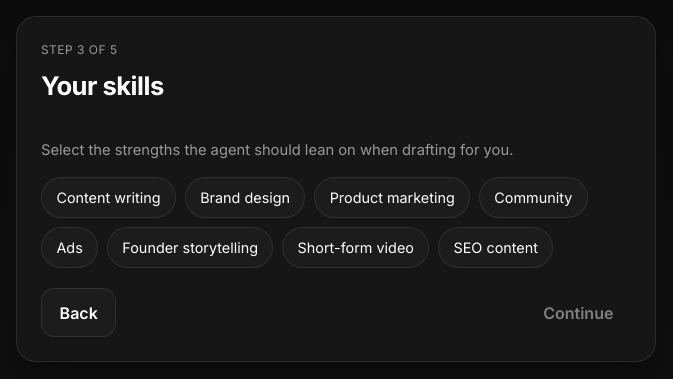
Test: OnboardingWizard › persists Back navigation to the server
Expected: the heading "Your skills" is shown, top-left (41, 70), bottom-right (164, 101)
Click the button "Back" at (79, 313), box top-left (41, 288), bottom-right (116, 337)
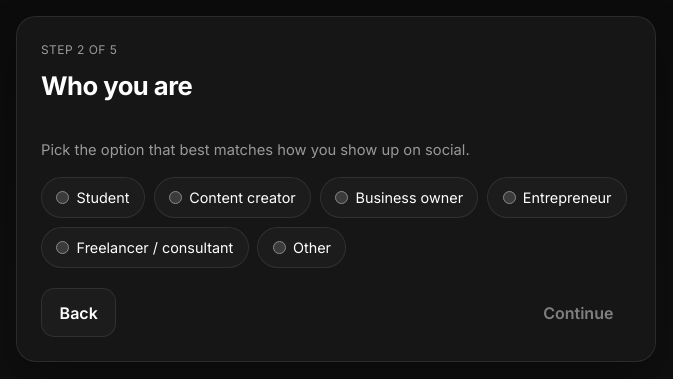
Result: the heading "Who you are" is shown at top-left (41, 70), bottom-right (192, 101)
